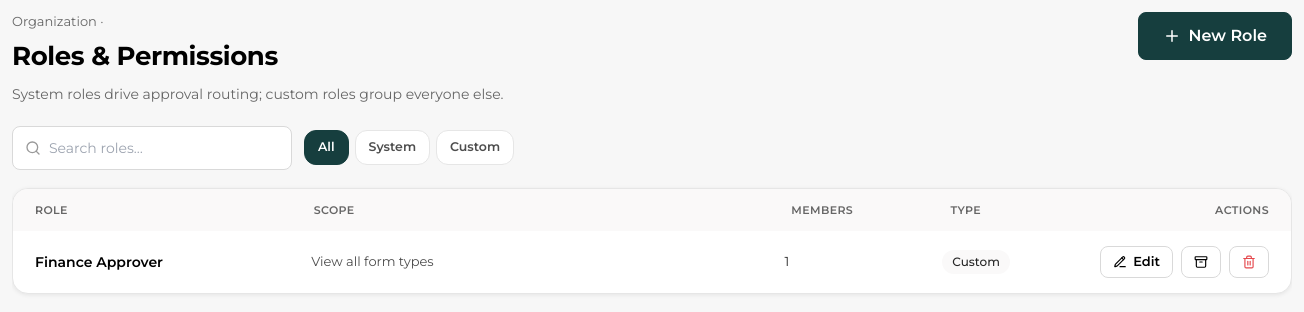
Scenario: archiving a custom role posts /archive and reloads
Check: the text "Finance Approver" is shown, box [35,253,163,271]
What coordinates should you click on to do the following:
click the button named "Archive Finance Approver"
I would click on:
 (1201, 262)
Its box is [1181,246,1221,278].
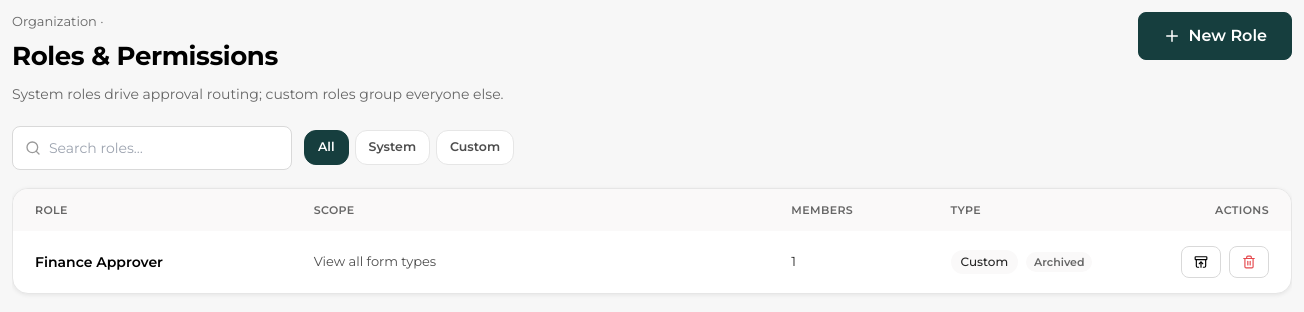
Check: the text "Archived" is shown, box [1026,252,1092,272]
